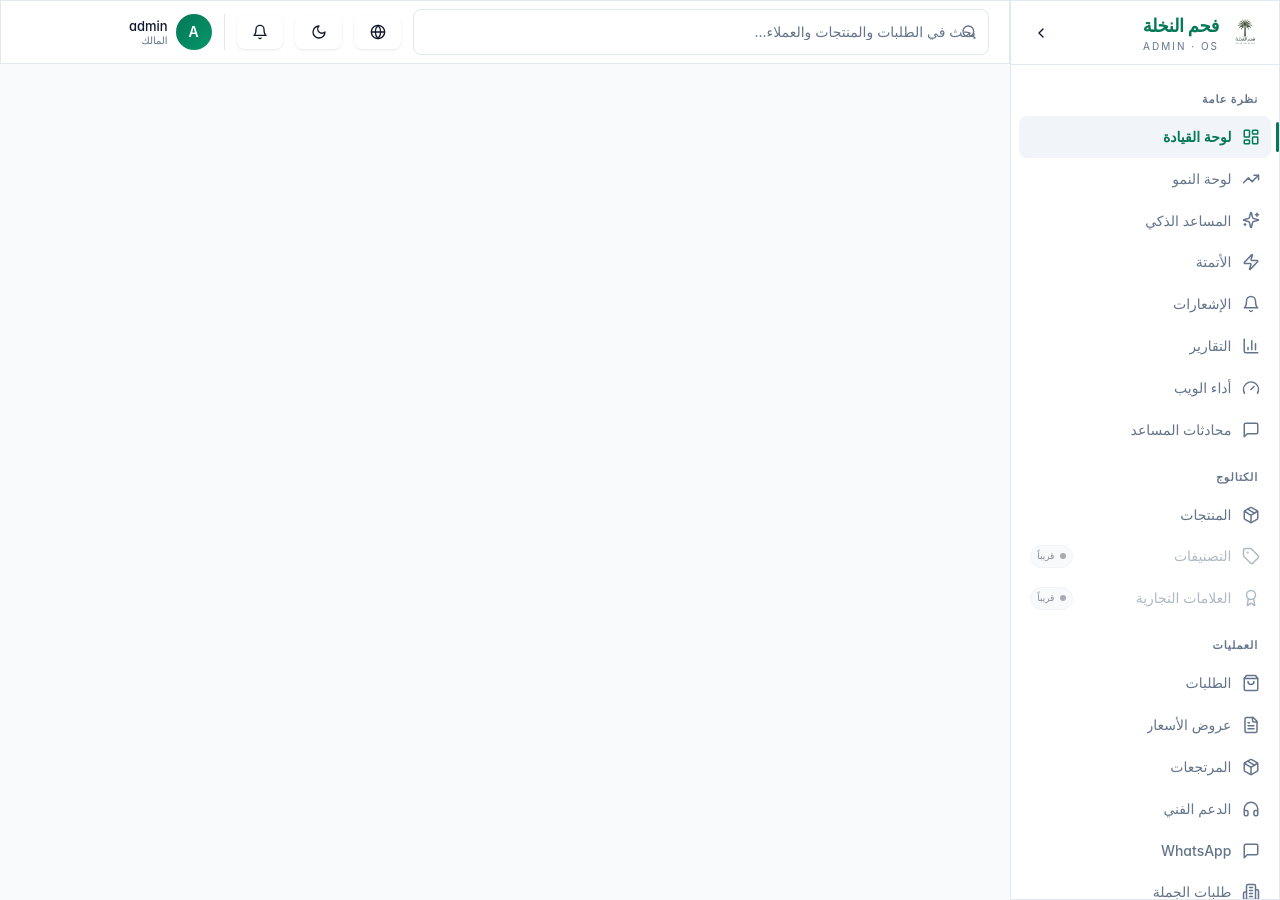
Scenario: Admin theme toggle › flips to dark on click and writes localStorage
The image size is (1280, 900).
Click the button titled "تبديل الثيم" at (319, 32), box [295,15,342,49]
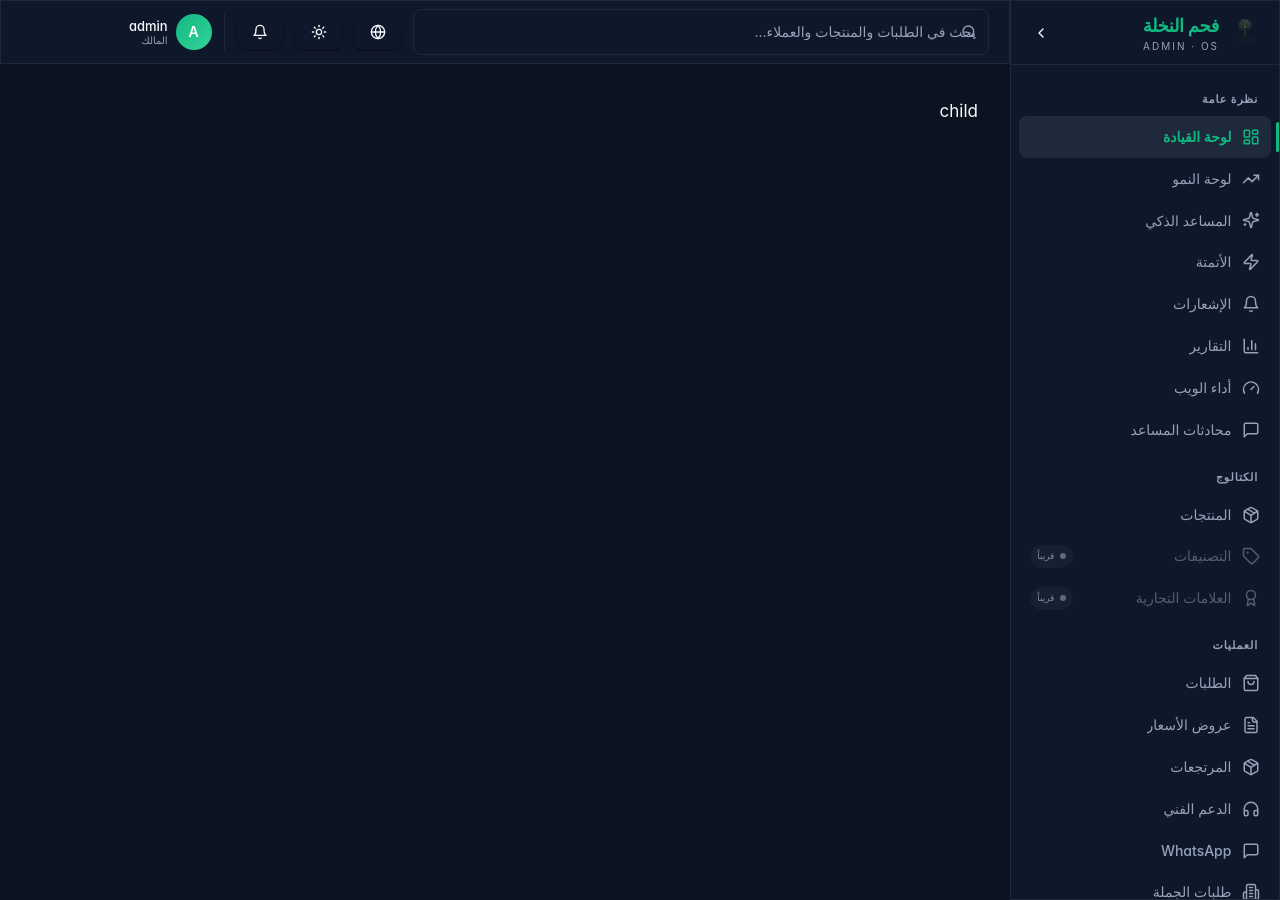
Expected: the element with class "admin-shell" has attribute data-theme="dark"
